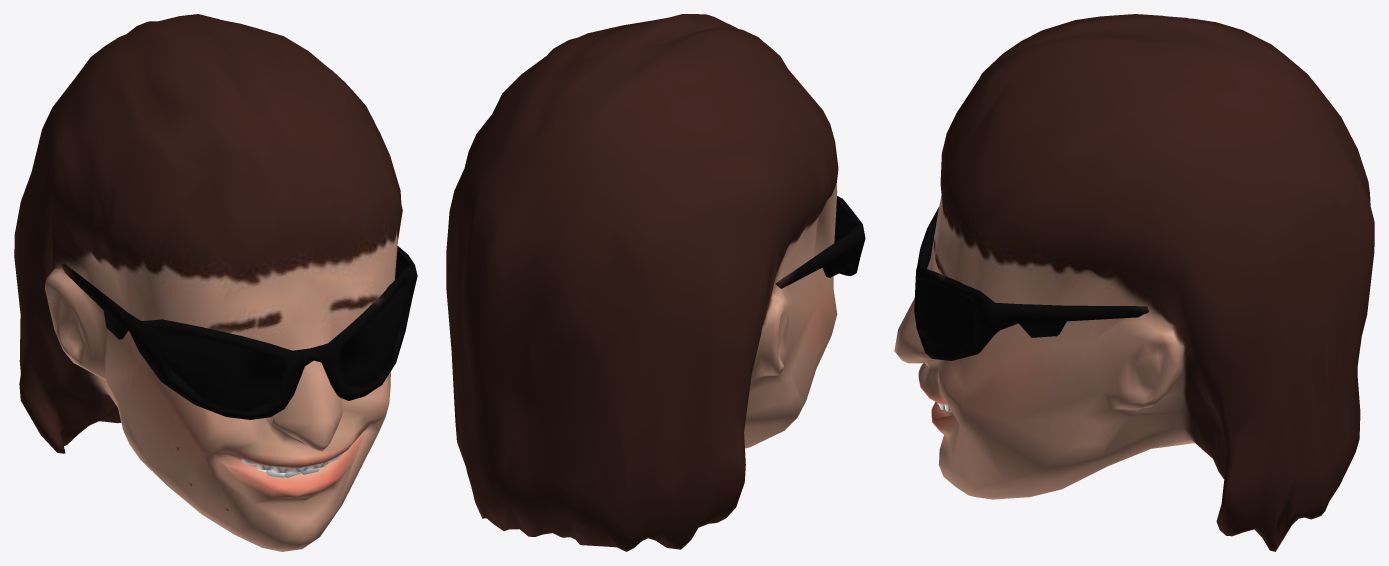
File: bobble_nobake.gltf
3 views of the same model, side by side, from view 1: azimuth 30°, elevation 25°; view 2: azimuth 150°, elevation 25°; view 3: azimuth 270°, elevation 25° (orthographic). The views are drawn at different scales.
Visible parts, largest first — view 1: animate; view 2: animate; view 3: animate.
Boxes of the visible parts, x1,y1,x2,y2 form: animate: (14, 14, 417, 551); animate: (446, 14, 865, 551); animate: (894, 14, 1374, 551).
Size of the model in its own units: 0.6468 by 0.9026 by 0.841.
1 material, 1 textured.
